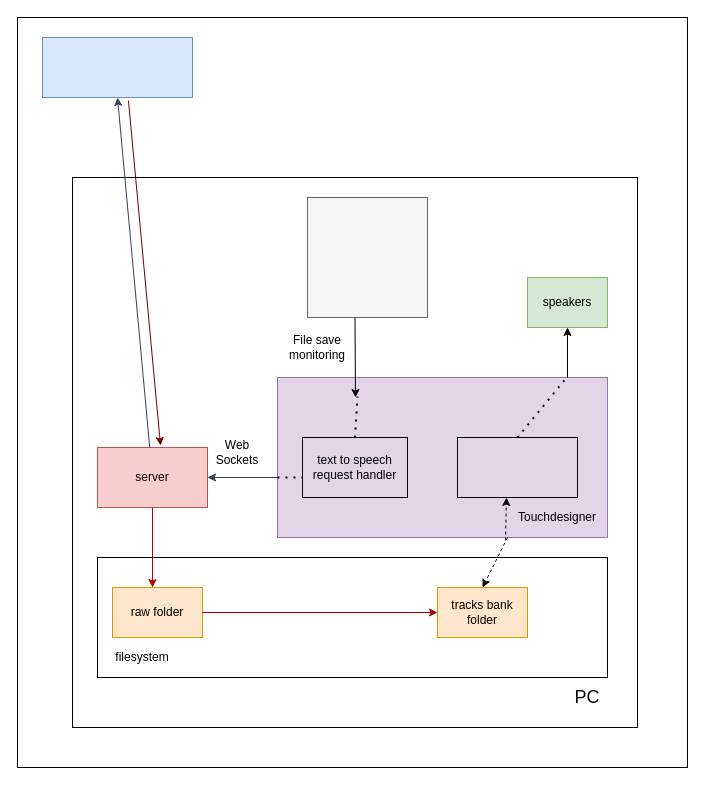
The diagram is 705 pixels wide and 785 high, and some of its shapes have lost their labels. The centre of each missing label's shape, as x and y in pixels:
audio player: (x=517, y=467)
text editor: (x=367, y=257)
Yandex cloud: (x=117, y=67)
